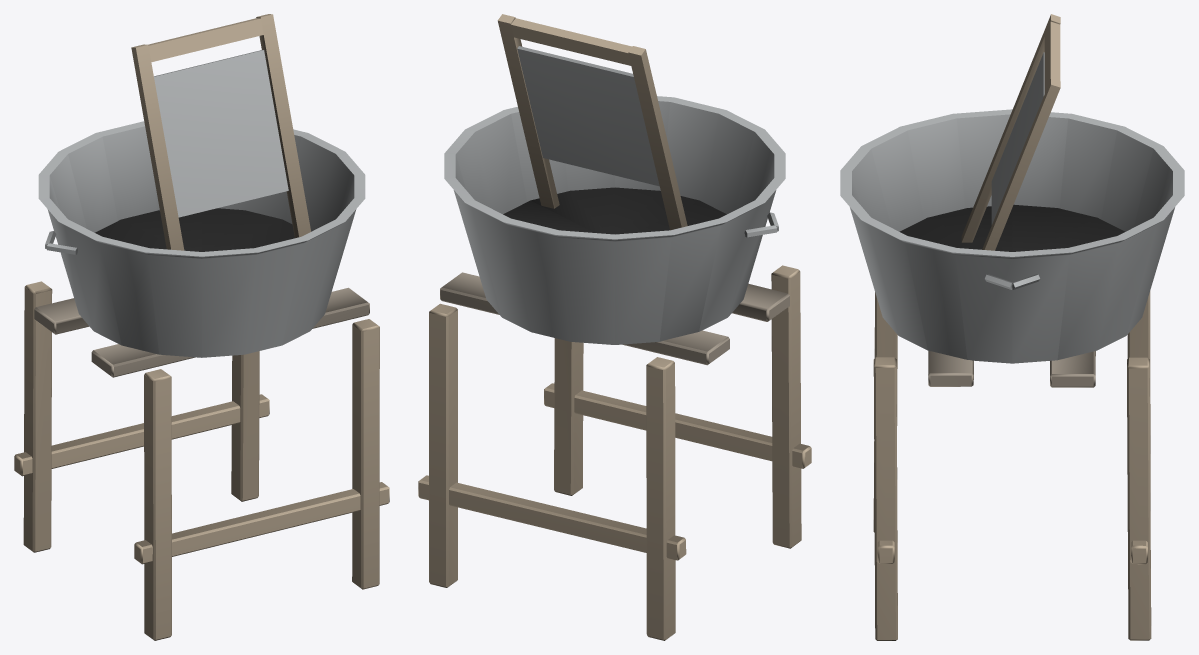
File: washtub_stand.glb
The picture shows the model from 3 angles, left to right: view 1: azimuth 30°, elevation 25°; view 2: azimuth 150°, elevation 25°; view 3: azimuth 270°, elevation 25°; orthographic projection. The views are drawn at different scales.
Parts seen in each view (by area): view 1: static; view 2: static; view 3: static.
Part boxes in pixels (<box>): static: <box>14,14,389,640</box>; static: <box>418,14,811,640</box>; static: <box>840,14,1184,640</box>.
Bounding box in the file's own units: 0.7513 × 1.19 × 0.6795.
